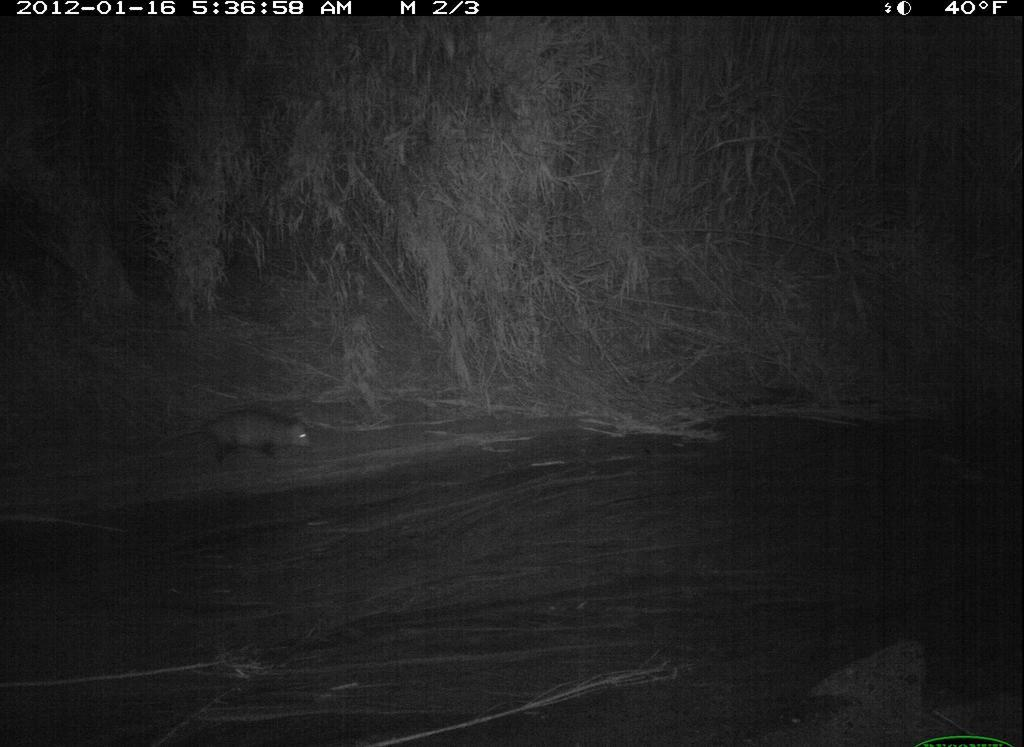opossum: (144, 406, 322, 468)
